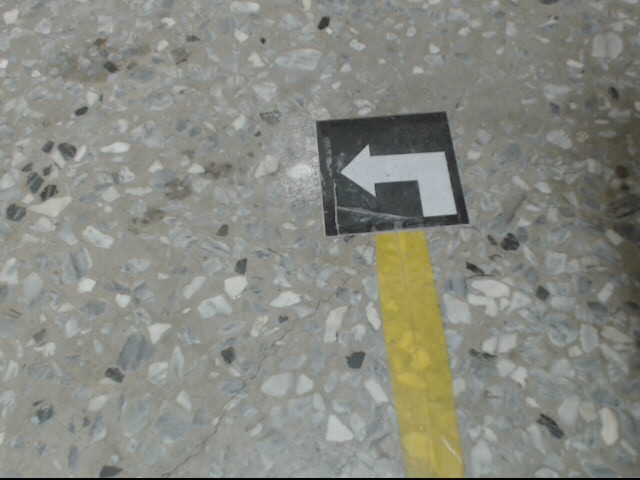left: (315, 112, 472, 236)
